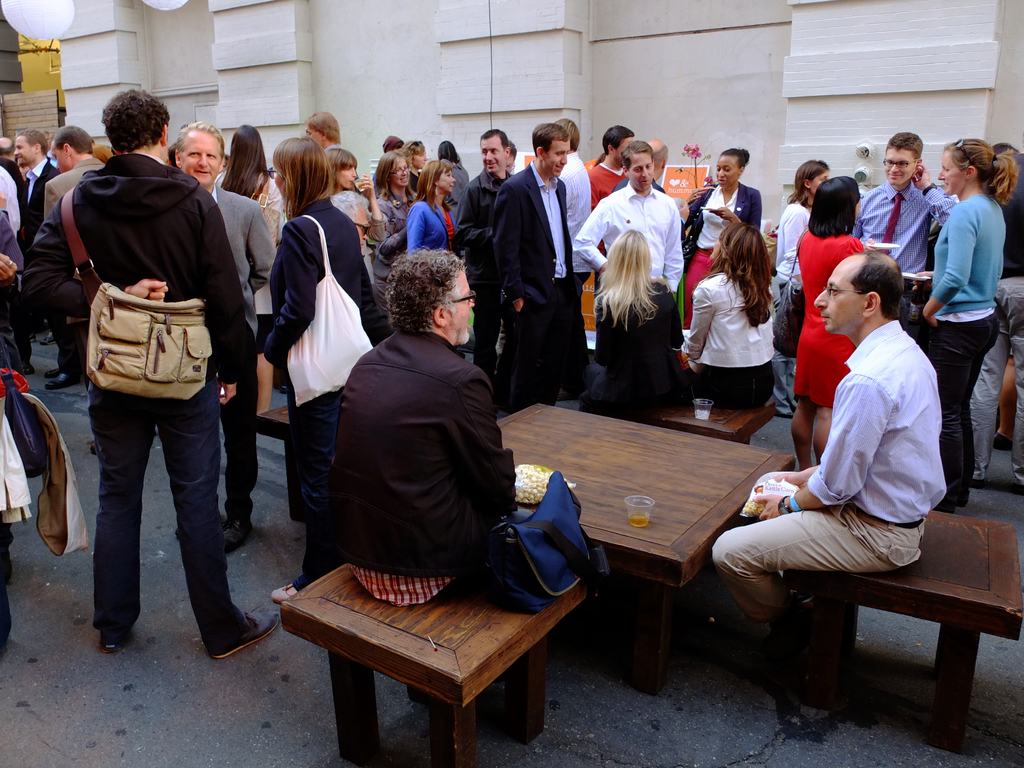Table: (497, 401, 796, 698), (258, 538, 603, 748)
